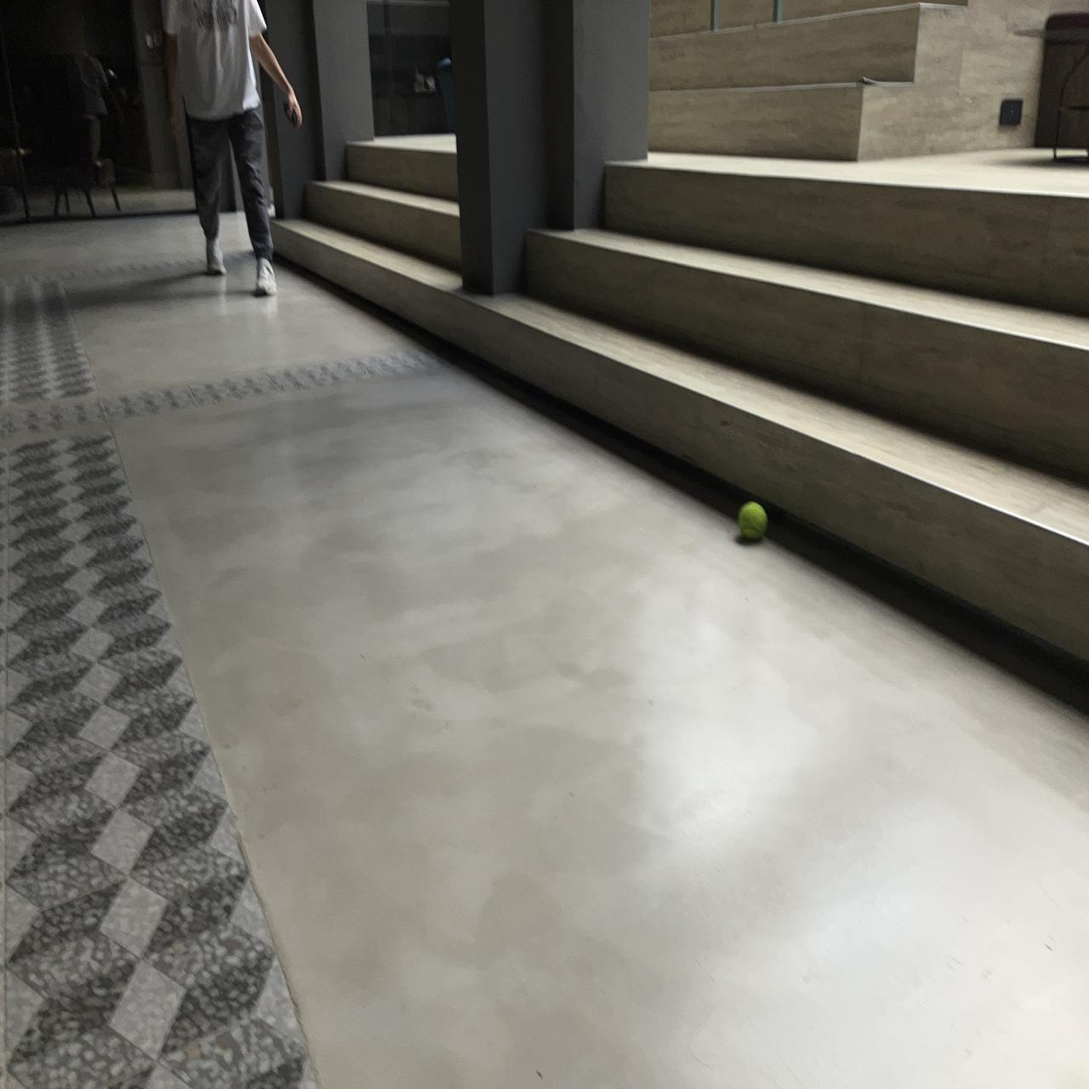person: (163, 0, 301, 295)
tennisball: (738, 503, 767, 539)
